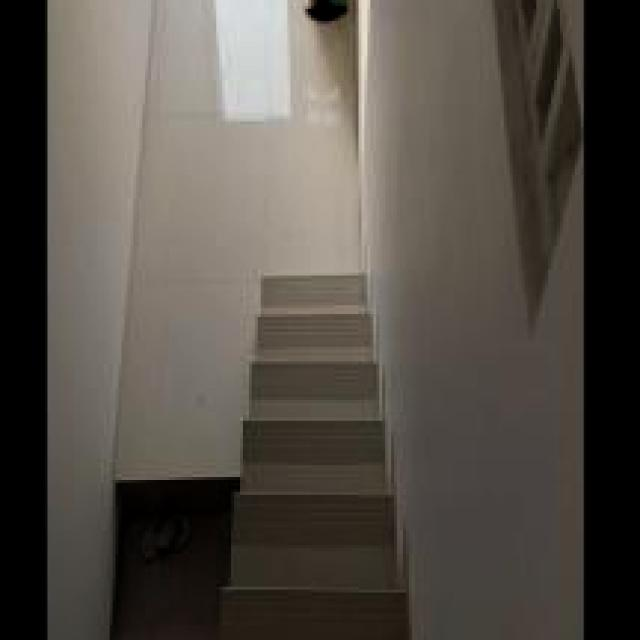downstair: (223, 256, 416, 640)
